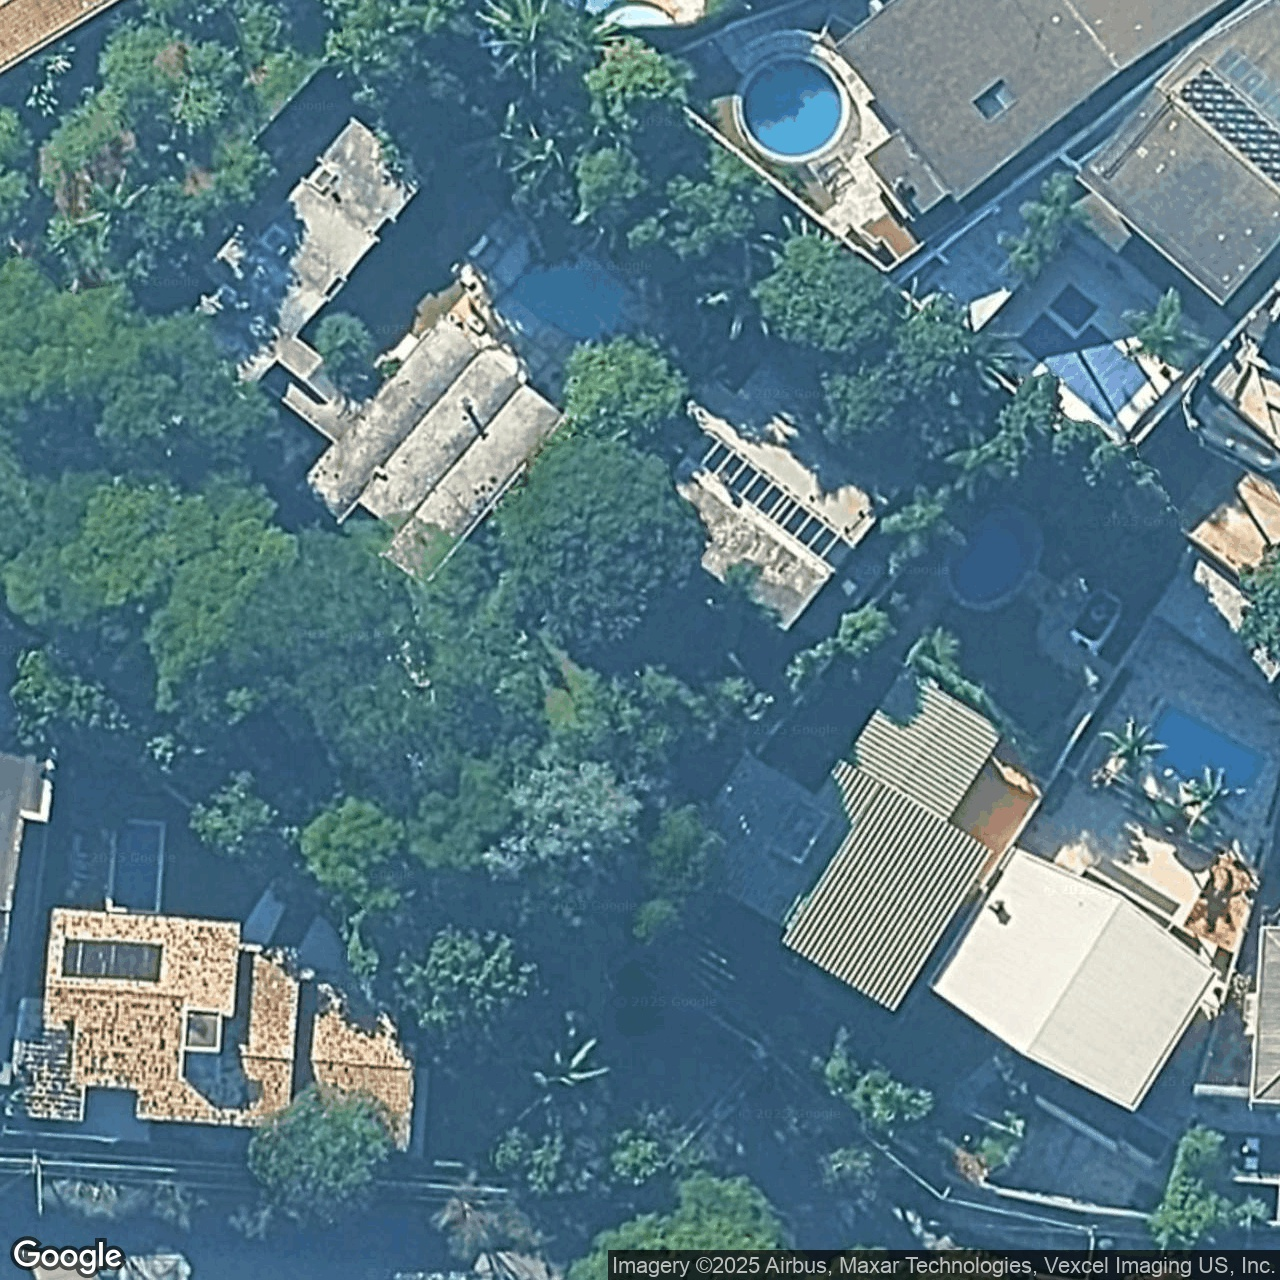pool: (557, 288, 595, 350), (802, 114, 842, 158), (987, 544, 1013, 601), (131, 876, 169, 914), (1197, 754, 1213, 817), (1082, 366, 1098, 423)
